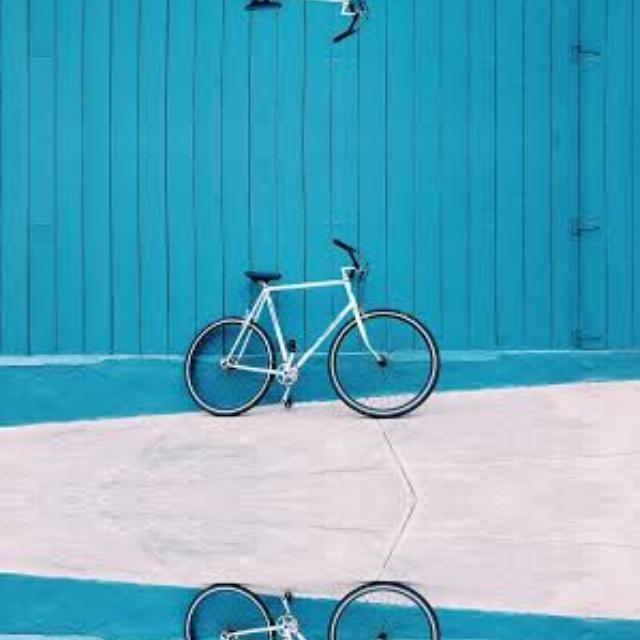obstacle: (123, 227, 500, 437), (123, 562, 500, 640), (123, 0, 500, 53)
